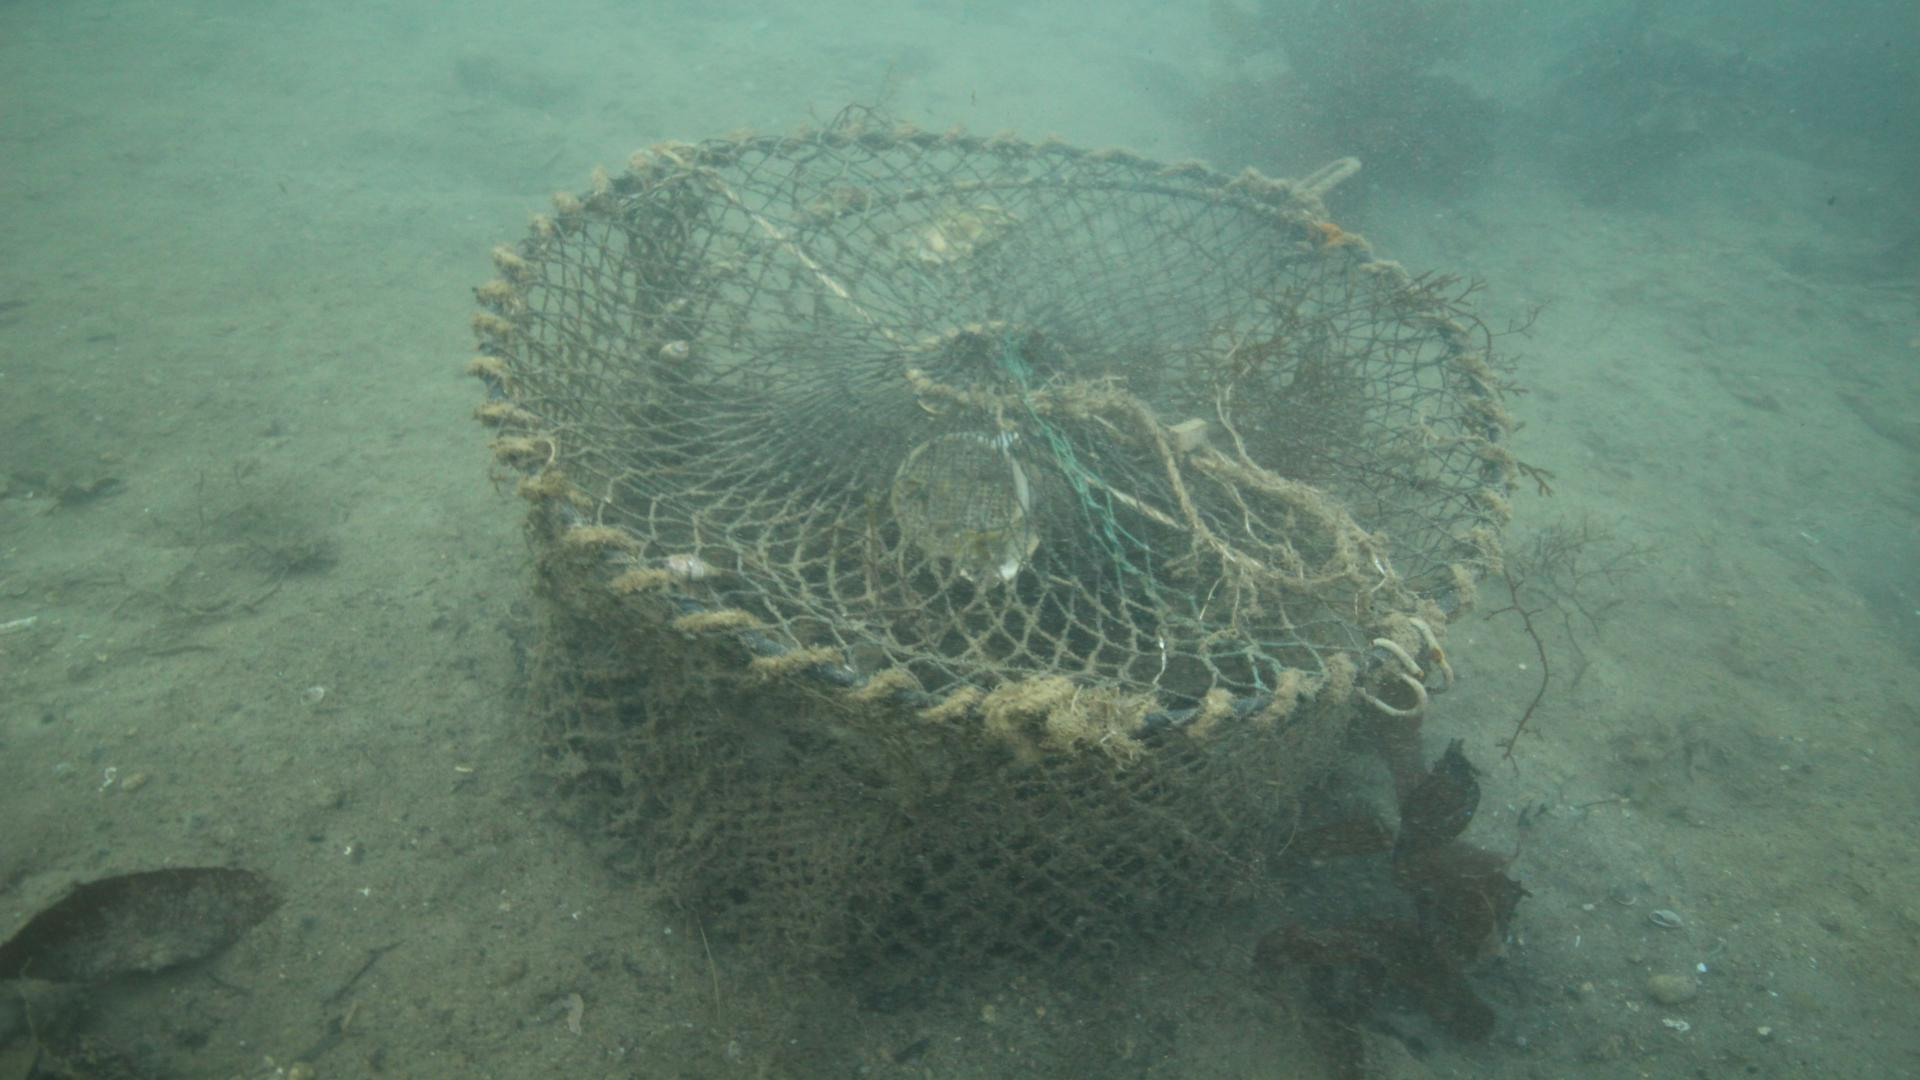circular fish trap: (465, 123, 1518, 998)
rope: (1290, 152, 1365, 204)
